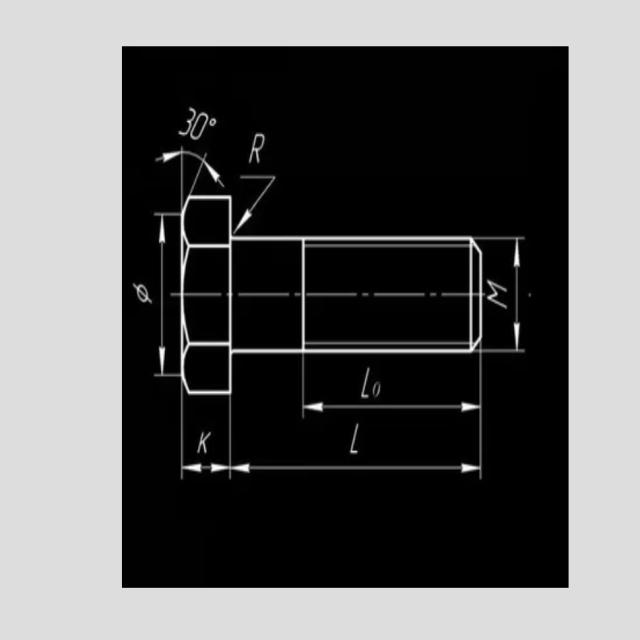marking_line: (234, 461, 481, 475), (304, 398, 480, 413), (156, 212, 166, 375), (511, 238, 521, 347), (180, 460, 225, 475)
numeric: (179, 100, 207, 144), (127, 279, 156, 313)
special_symbol: (154, 147, 227, 195), (235, 172, 272, 239)
